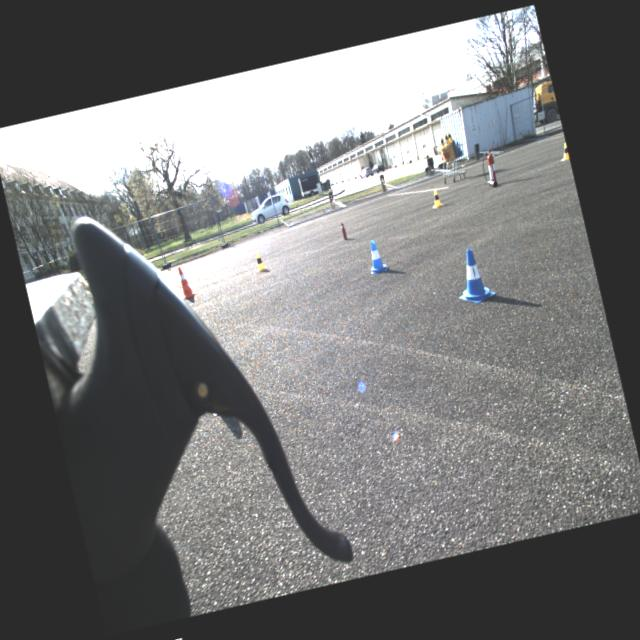blue_cone: (448, 244, 496, 306), (364, 238, 388, 274), (456, 140, 462, 152)
large_orange_cone: (176, 264, 196, 299)
yellow_cone: (252, 250, 266, 272), (428, 188, 443, 208), (558, 142, 570, 161), (444, 131, 452, 144), (438, 136, 446, 148), (446, 130, 454, 142)
